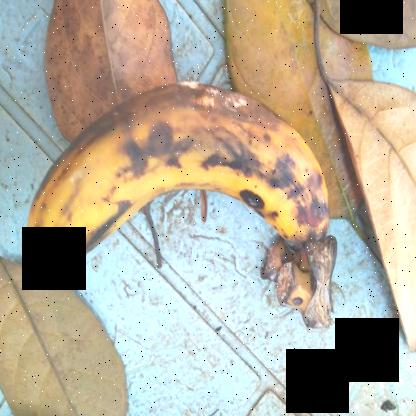overripe: (31, 60, 357, 276)
